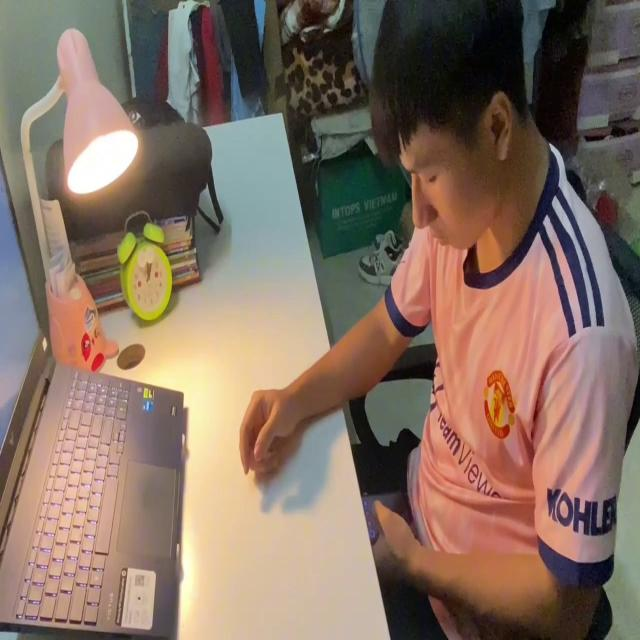laptop: (0, 141, 190, 640)
student: (240, 0, 640, 640)
